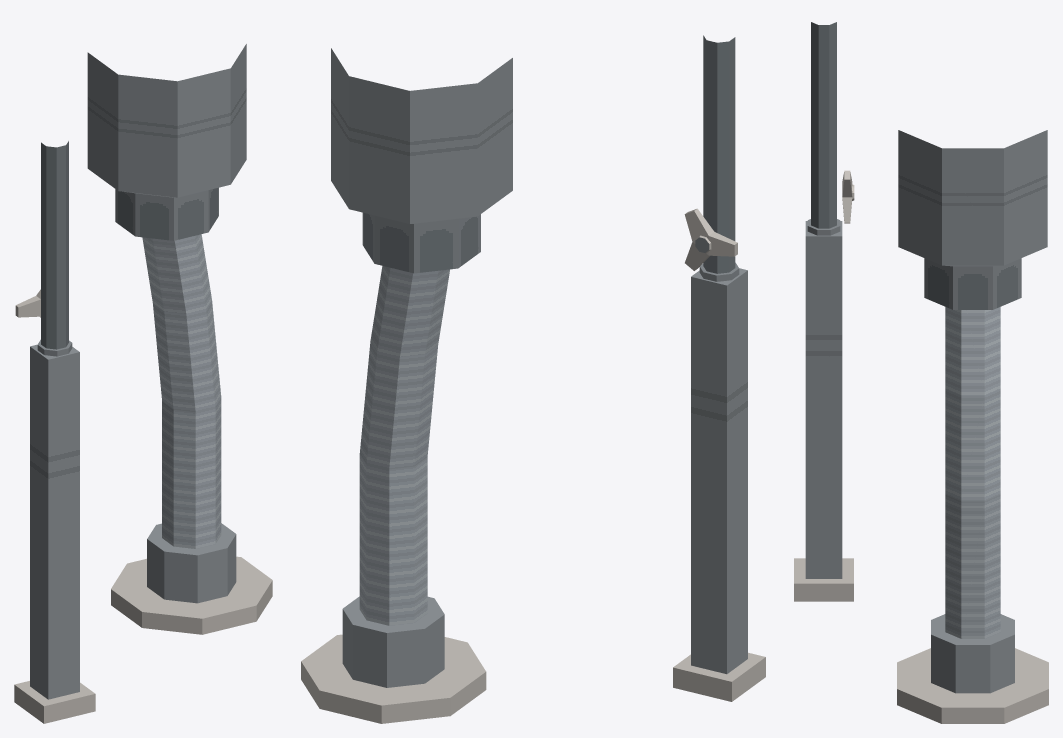
Rendered from kd_stage_135b75_4_55.glb.
3 views of the same model, side by side, from view 1: azimuth 30°, elevation 25°; view 2: azimuth 150°, elevation 25°; view 3: azimuth 270°, elevation 25° (orthographic). The views are drawn at different scales.
Visible parts, largest first — view 1: kd_stage_135b75_4_55; view 2: kd_stage_135b75_4_55; view 3: kd_stage_135b75_4_55.
Part boxes in pixels (x1,y1,x2,y2): kd_stage_135b75_4_55: (14,44,272,723); kd_stage_135b75_4_55: (301,35,765,723); kd_stage_135b75_4_55: (794,22,1048,723).
Bounding box in the file's own units: 0.3532 × 0.6307 × 0.2559.
Materials: 1 (1 with a texture image).
